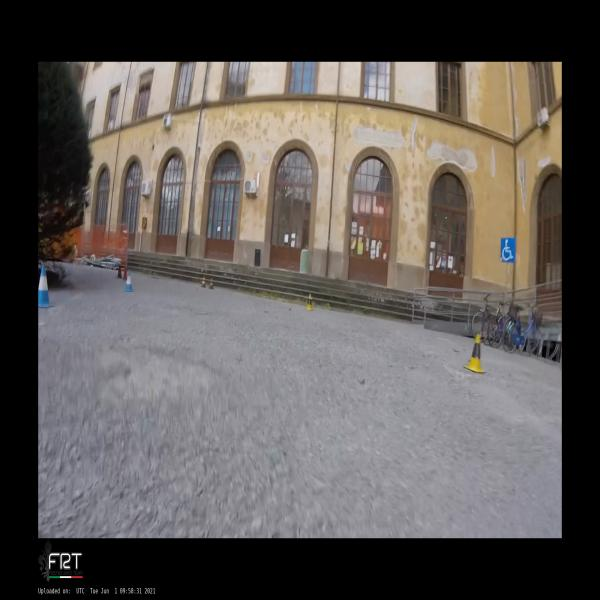blue_cone: (38, 266, 55, 308), (123, 270, 134, 292)
large_orange_cone: (208, 277, 214, 289), (201, 275, 206, 288)
unknown_cone: (116, 265, 122, 279), (123, 268, 127, 280)
yellow_cone: (464, 334, 486, 373), (305, 293, 314, 311)
